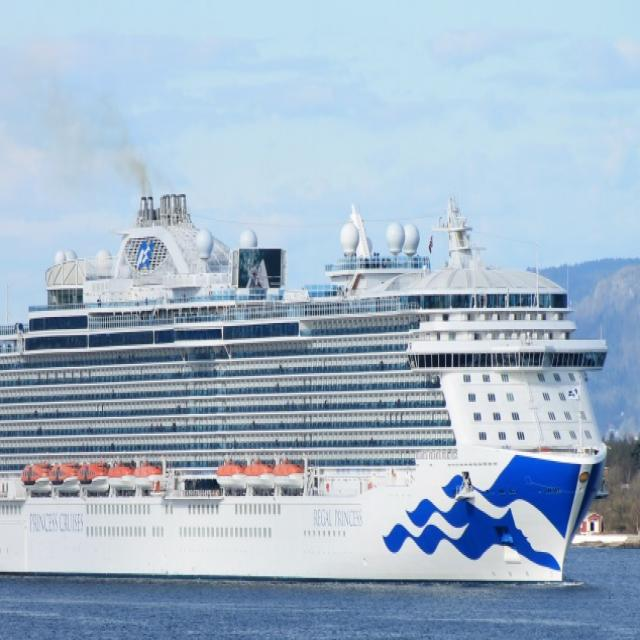cruises: (1, 189, 617, 597)
